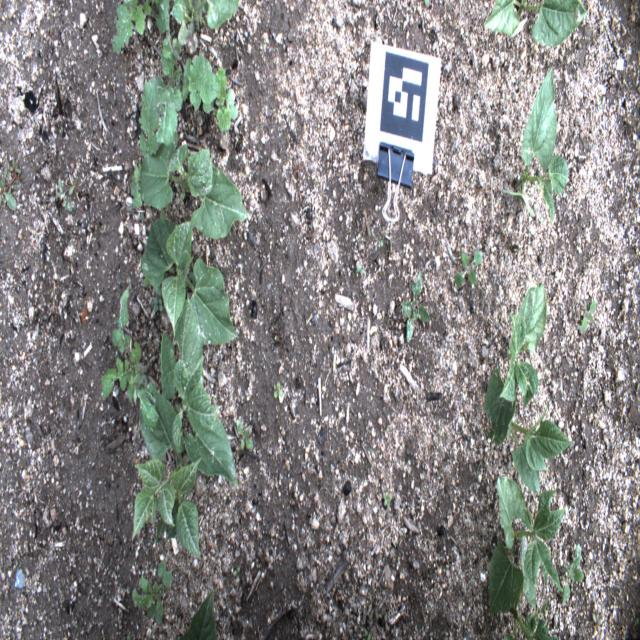crop: (160, 292, 238, 487), (140, 212, 238, 344), (131, 384, 203, 561), (140, 124, 248, 239), (488, 474, 568, 612), (501, 66, 568, 224), (482, 280, 546, 445), (506, 395, 576, 502), (504, 536, 560, 639), (482, 0, 588, 47), (172, 0, 240, 45), (177, 586, 217, 640)
weed: (138, 1, 238, 157), (100, 285, 160, 430), (111, 0, 161, 52), (132, 562, 173, 623), (400, 269, 430, 344), (561, 543, 584, 607), (452, 246, 483, 291), (0, 158, 25, 211), (581, 298, 597, 334), (236, 417, 253, 450), (57, 178, 73, 213), (274, 382, 283, 398), (384, 493, 392, 507)
